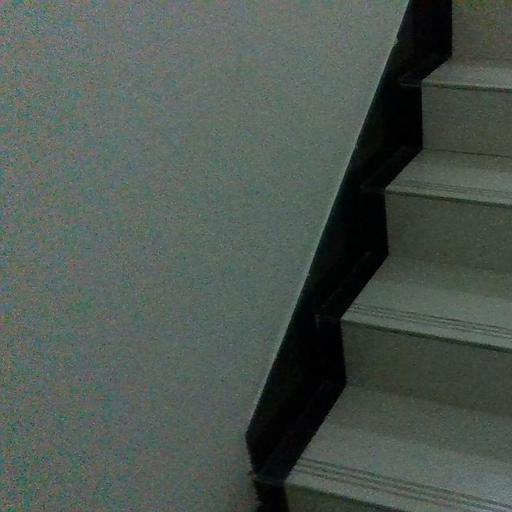Stairs: (261, 0, 512, 512)
